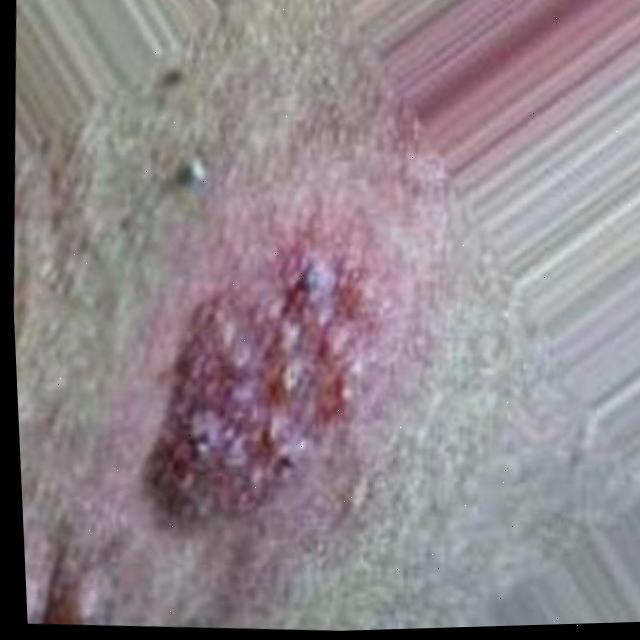Shingles: (162, 270, 355, 522)
